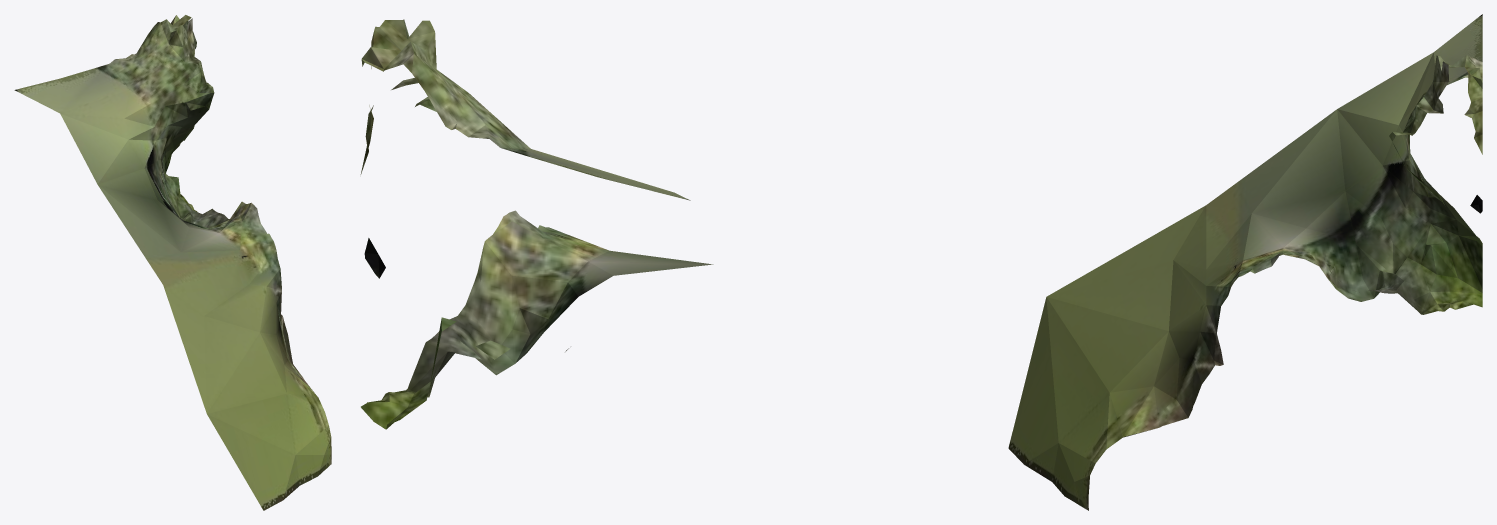
3 views of the same model, side by side, from view 1: azimuth 30°, elevation 25°; view 2: azimuth 150°, elevation 25°; view 3: azimuth 270°, elevation 25° (orthographic). The views are drawn at different scales.
Bounding box in the file's own units: 2.97 × 5.9 × 5.69.
2 materials, 2 textured.
